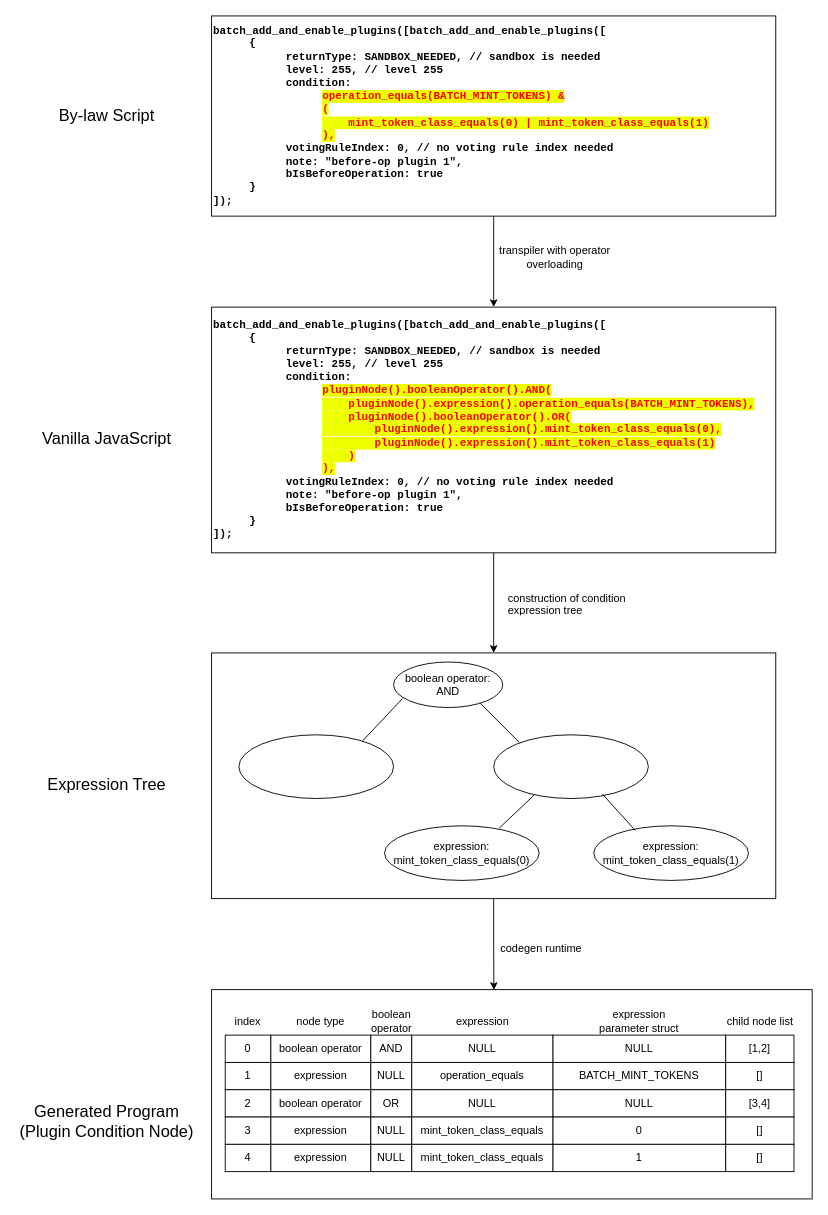
The diagram is 828 pixels wide and 1215 high, and some of its shapes have lost their labels. Here are the shapes that lost their labels. From the top down, the box of each, then its label:
(238, 734, 394, 799): expression: operation_equals( BATCH_MINT_TOKENS)
(493, 734, 648, 799): boolean operator: OR
